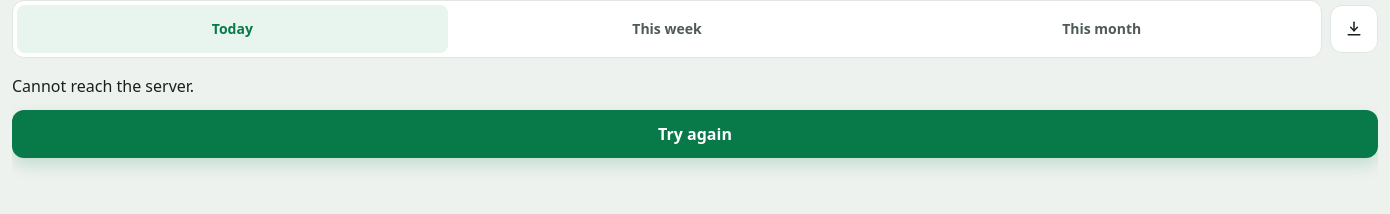
Scenario: reports › shows a retryable error and a download failure
Expected: the message reads "Cannot reach the server.", [12,75,194,97]
Click the button "Try again".
click(695, 134)  # box [12,110,1378,158]
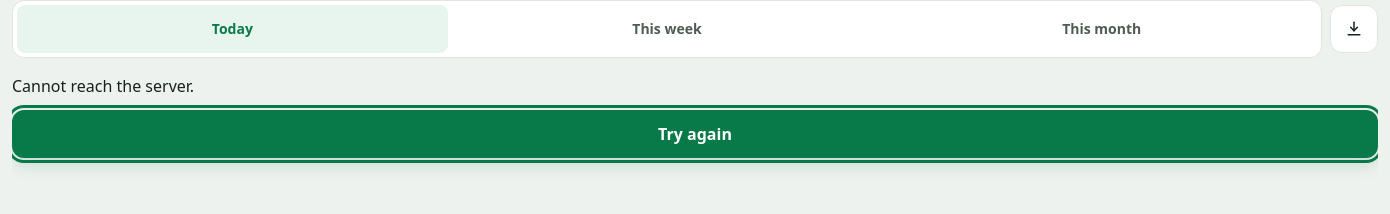
Click the button named "Download report".
click(1354, 29)  # box [1330,5,1378,53]
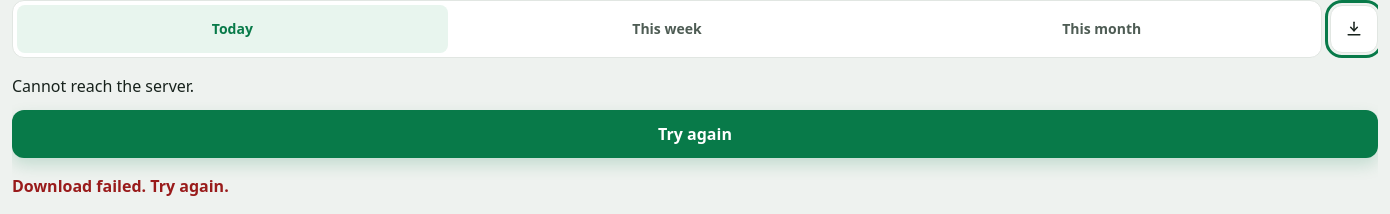
Expected: the text "Download failed. Try again." is shown, [12,175,229,197]
